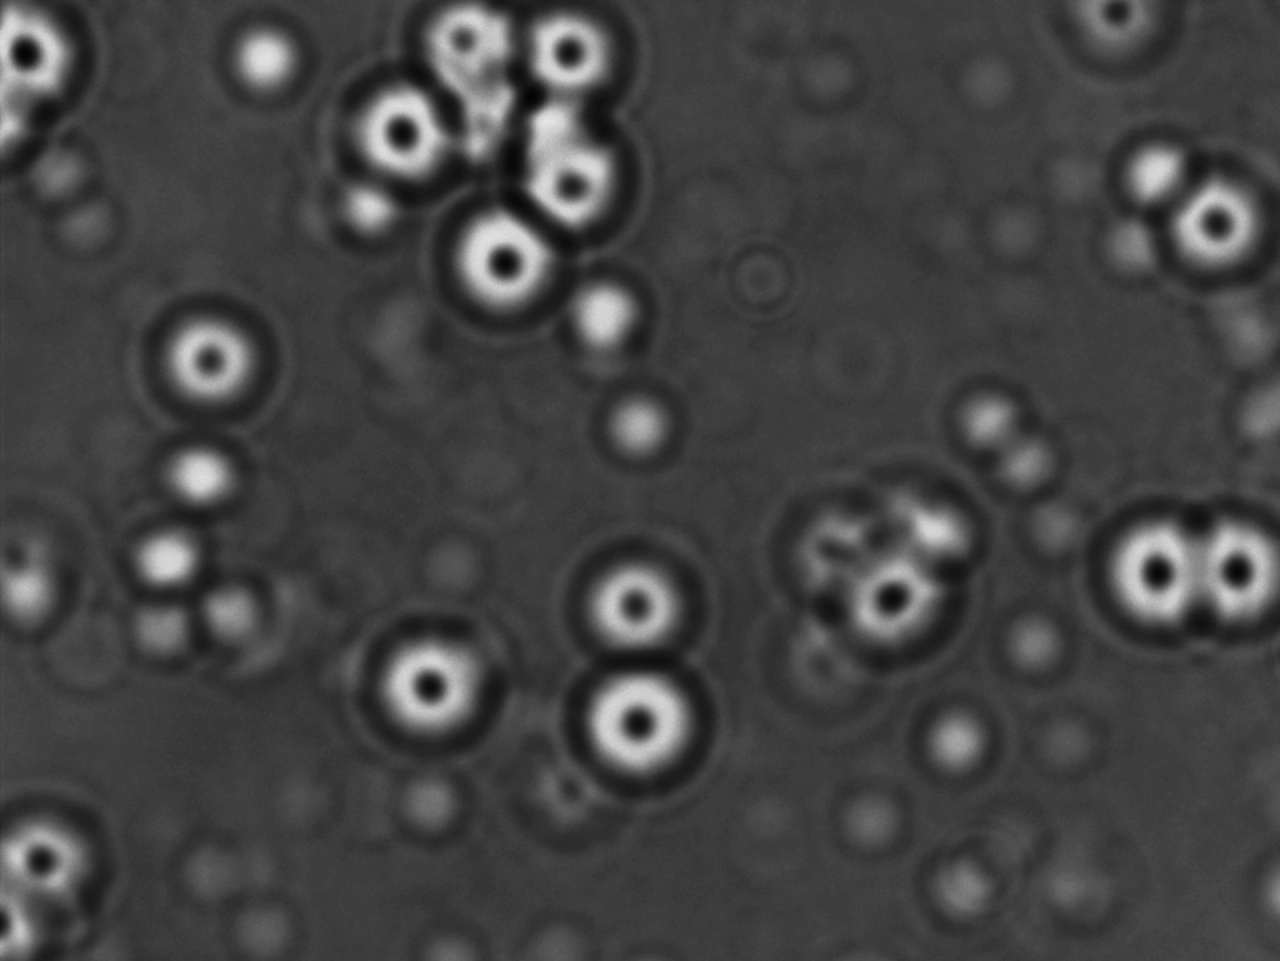depth:32: (564, 646, 719, 804), (427, 191, 577, 340), (353, 598, 499, 747), (329, 59, 473, 199), (495, 117, 649, 241), (1088, 502, 1218, 641), (826, 534, 962, 663), (137, 293, 275, 421), (1150, 161, 1280, 295), (563, 537, 699, 666), (1190, 495, 1280, 635)
